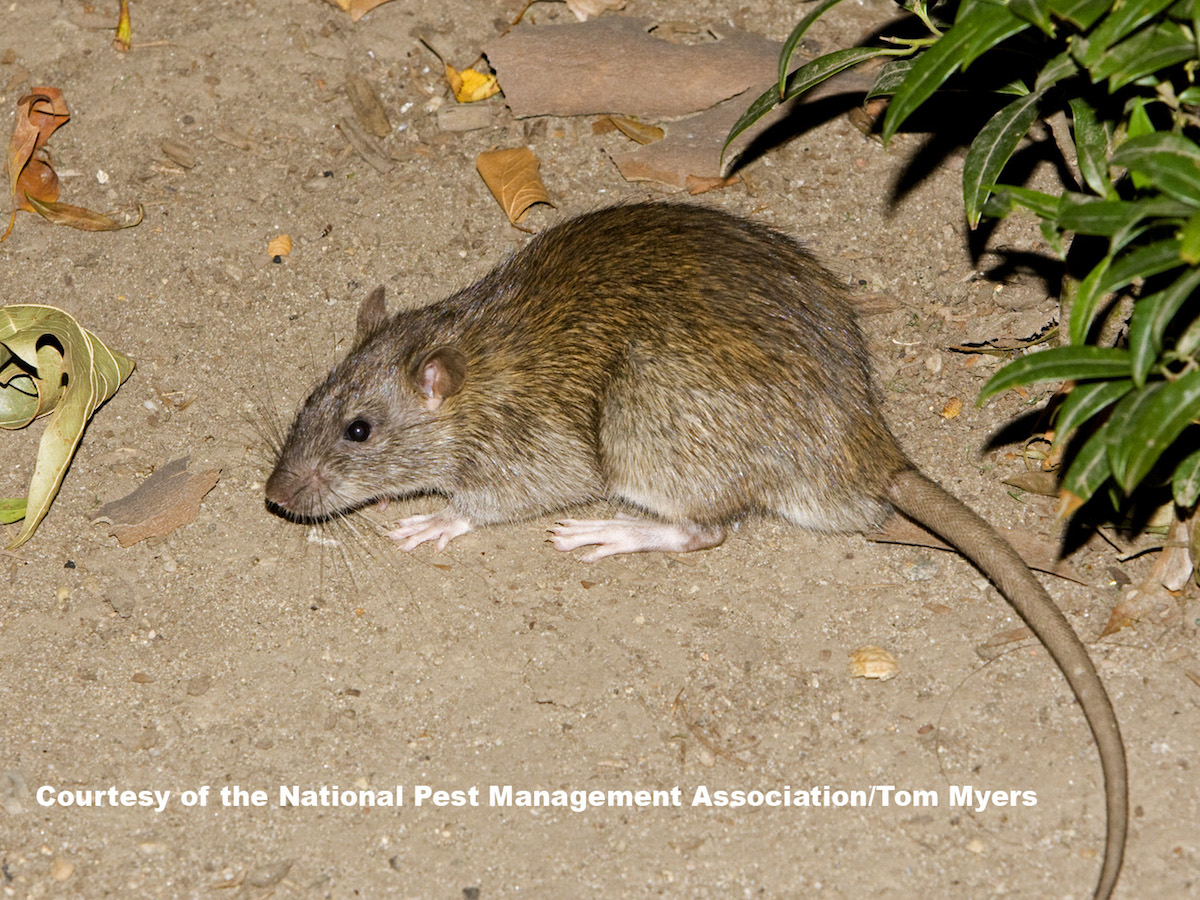Rat: (268, 164, 952, 588)
